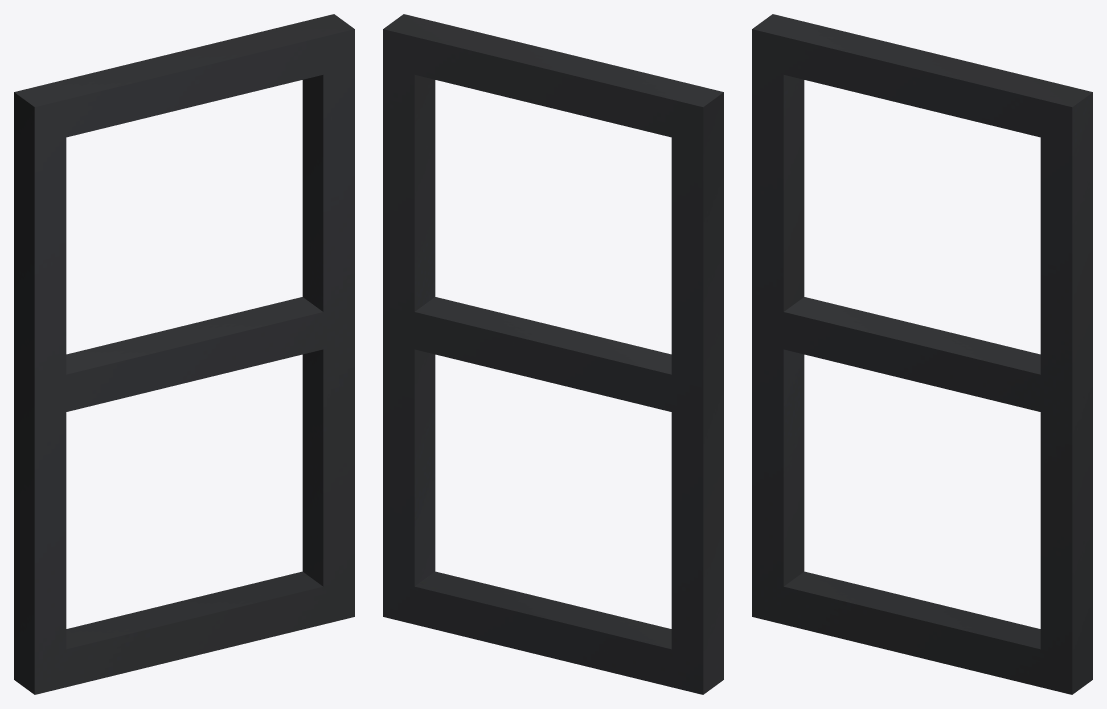
File: Wall_SteelColumn2.fbx
3 views of the same model, side by side, from view 1: azimuth 30°, elevation 25°; view 2: azimuth 150°, elevation 25°; view 3: azimuth 330°, elevation 25° (orthographic).
Visible parts, largest first — view 1: Wall_SteelColumn2; view 2: Wall_SteelColumn2; view 3: Wall_SteelColumn2.
Boxes of the visible parts, left/top/right/bottom form: Wall_SteelColumn2: left=14, top=14, right=354, bottom=694; Wall_SteelColumn2: left=383, top=14, right=723, bottom=694; Wall_SteelColumn2: left=752, top=14, right=1092, bottom=694.
Size of the model in its own units: 0.3576 by 0.6273 by 0.04.
Materials: 1 (1 with a texture image).
